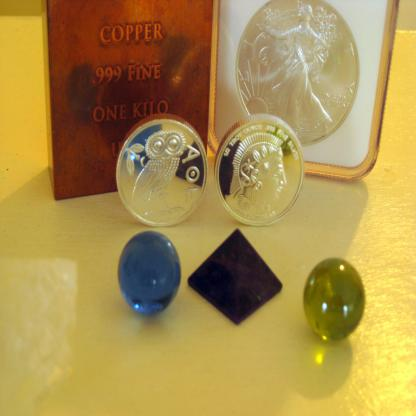Ball: (302, 254, 366, 344), (117, 231, 181, 314)
